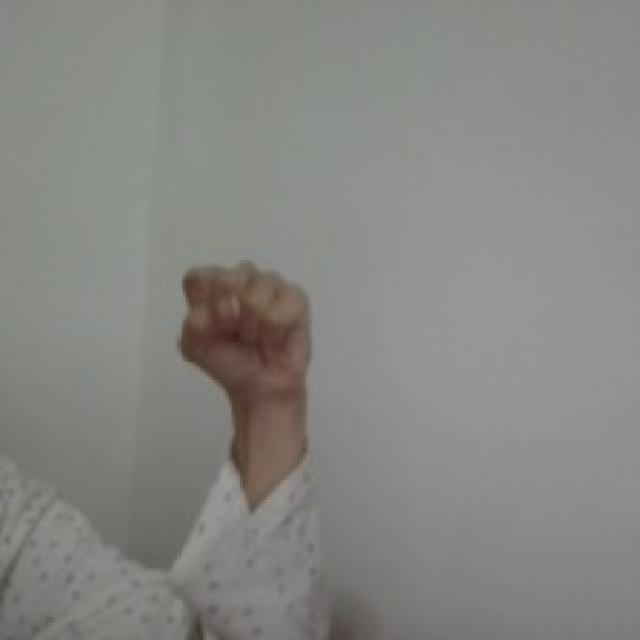yes: (173, 256, 317, 401)
